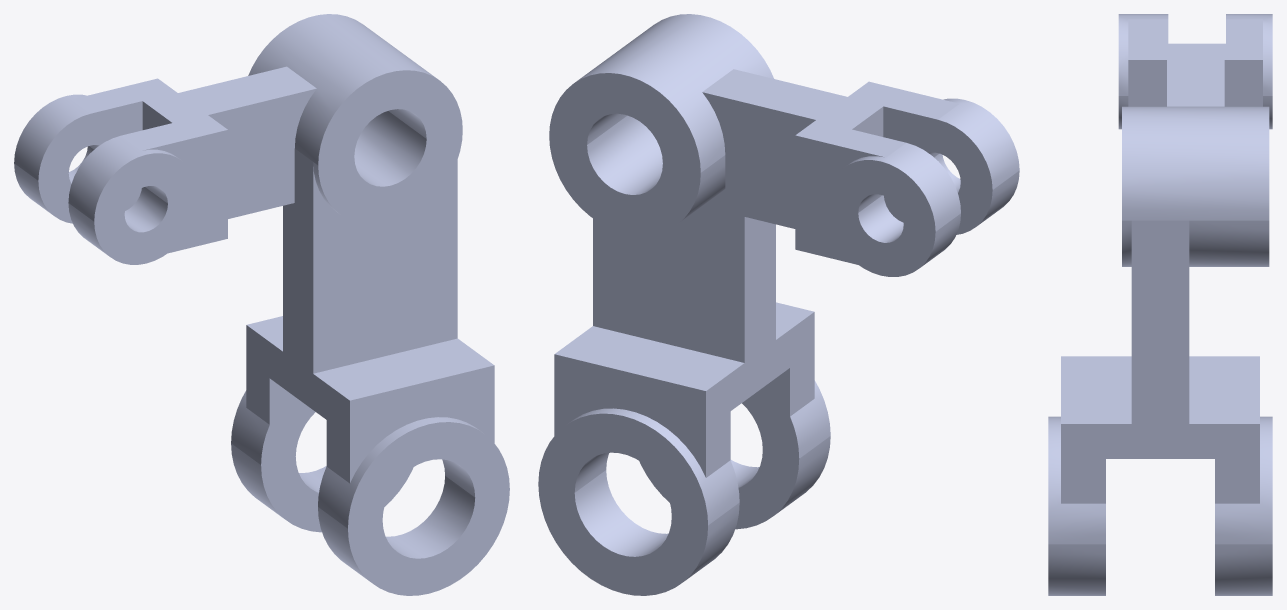
File: my-design.glb
3 views of the same model, side by side, from view 1: azimuth 30°, elevation 25°; view 2: azimuth 150°, elevation 25°; view 3: azimuth 270°, elevation 25° (orthographic). The views are drawn at different scales.
Parts seen in each view (by area): view 1: my-design; view 2: my-design; view 3: my-design.
Boxes of the visible parts, left/top/right/bottom form: my-design: left=14, top=14, right=509, bottom=595; my-design: left=538, top=14, right=1019, bottom=595; my-design: left=1048, top=14, right=1272, bottom=595.
Size of the model in its own units: 0.131 by 0.1629 by 0.07.
